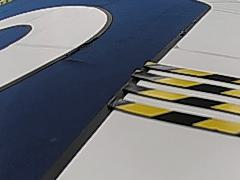bump: (113, 57, 239, 140)
